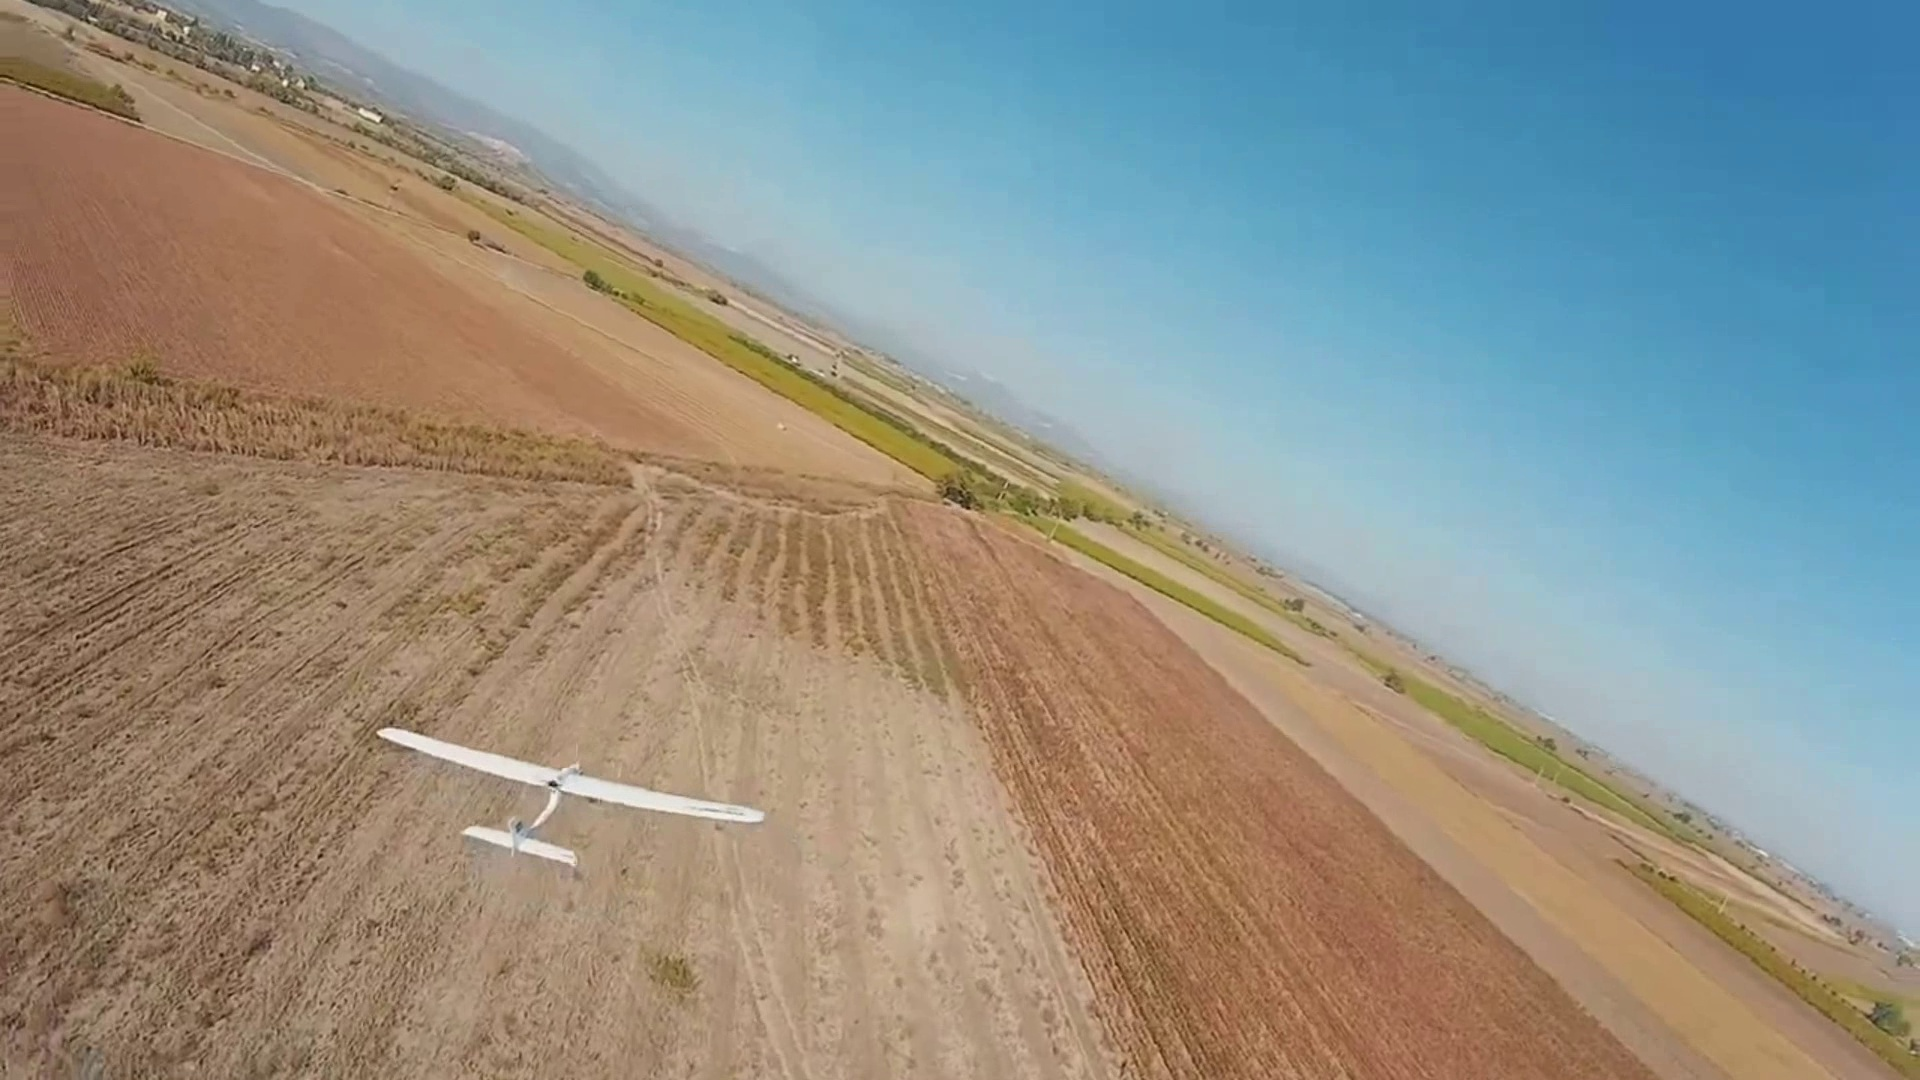airplane: (378, 723, 766, 874)
